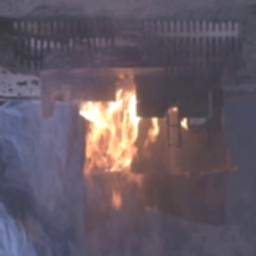fire: (72, 90, 159, 210)
